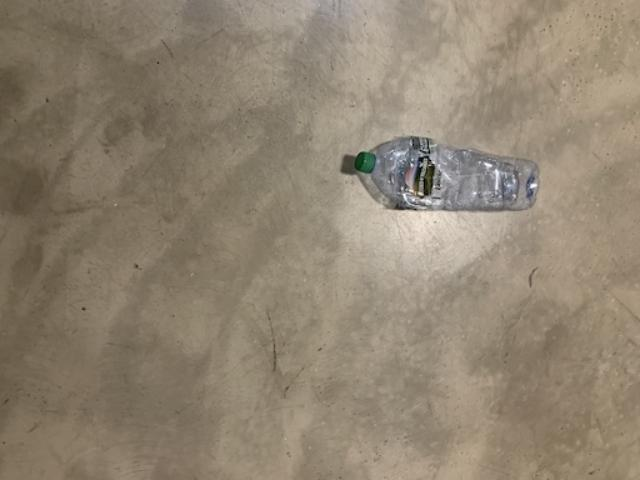plastic: (354, 135, 536, 209)
